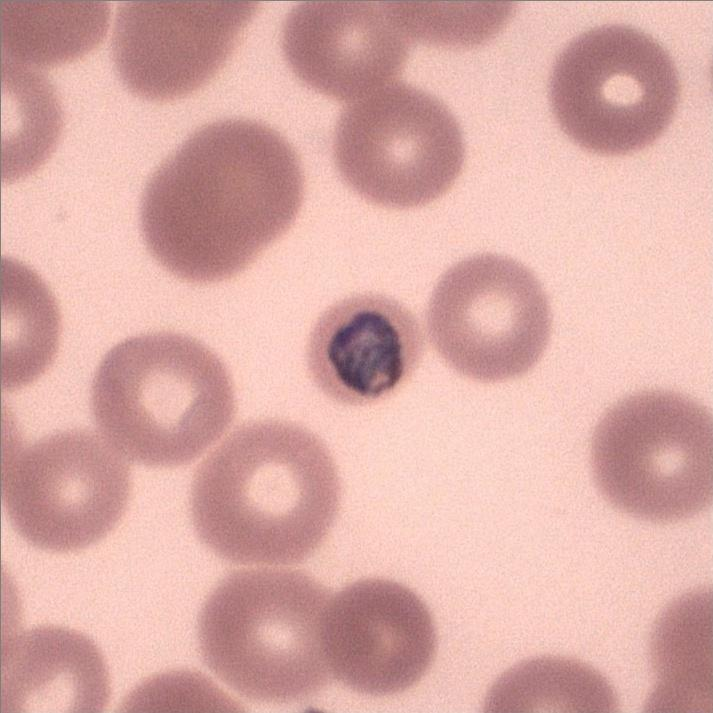Infected: (308, 293, 415, 406)
Uninfected: (138, 117, 305, 281), (191, 422, 344, 566), (198, 566, 346, 698), (92, 334, 234, 466), (549, 22, 682, 154), (335, 82, 464, 210), (590, 389, 713, 520), (429, 254, 556, 380), (5, 431, 129, 552), (316, 577, 437, 692), (283, 5, 419, 95)
